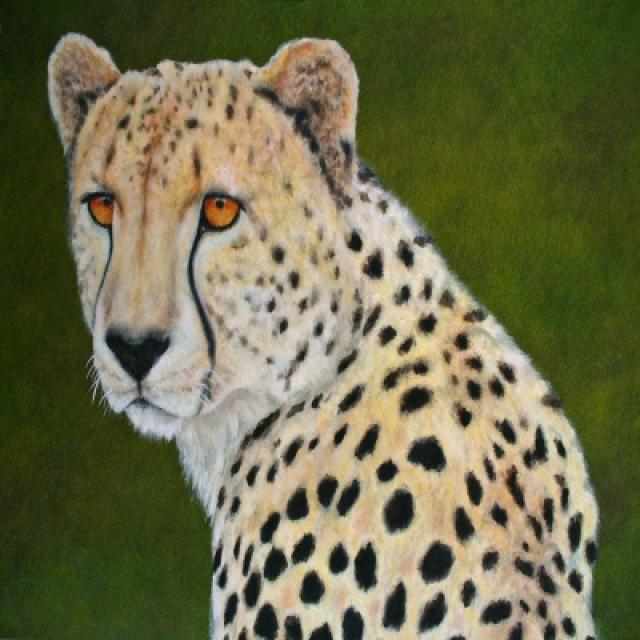Cheetah: (45, 32, 602, 638)
